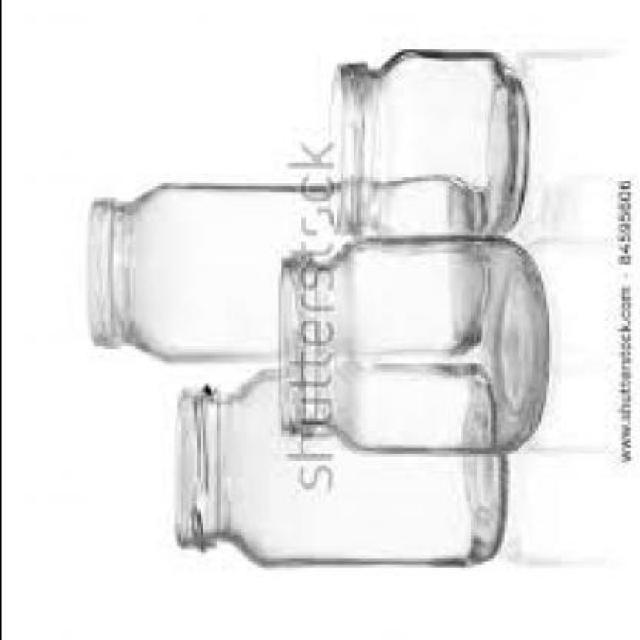GLASS: (87, 178, 484, 364), (171, 370, 503, 567), (274, 241, 541, 457), (327, 56, 522, 244)
